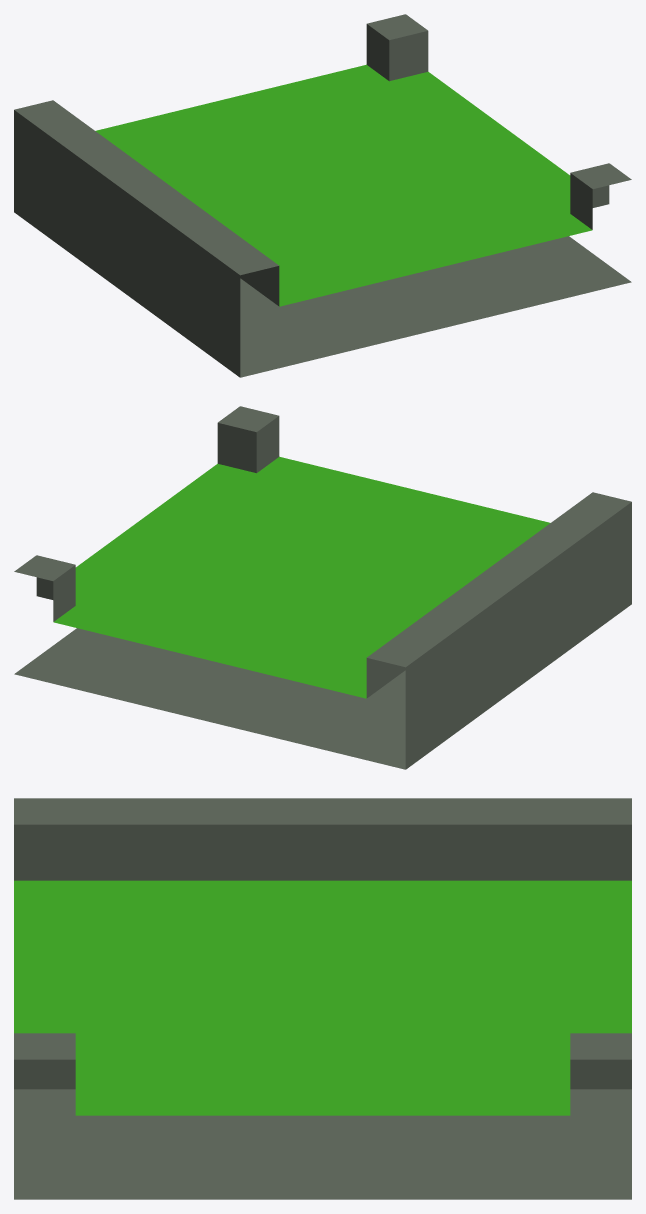
The model's file is T-Junction.fbx.
The picture shows the model from 3 angles, top to bottom: view 1: azimuth 30°, elevation 25°; view 2: azimuth 150°, elevation 25°; view 3: azimuth 270°, elevation 25°; orthographic projection. The views are drawn at different scales.
Parts seen in each view (by area): view 1: CrossWall2Corners.002; view 2: CrossWall2Corners.002; view 3: CrossWall2Corners.002.
Boxes of the visible parts, x1,y1,x2,y2 form: CrossWall2Corners.002: [14, 14, 631, 377]; CrossWall2Corners.002: [14, 406, 631, 769]; CrossWall2Corners.002: [14, 798, 631, 1199].
Size of the model in its own units: 200 by 50 by 200.
